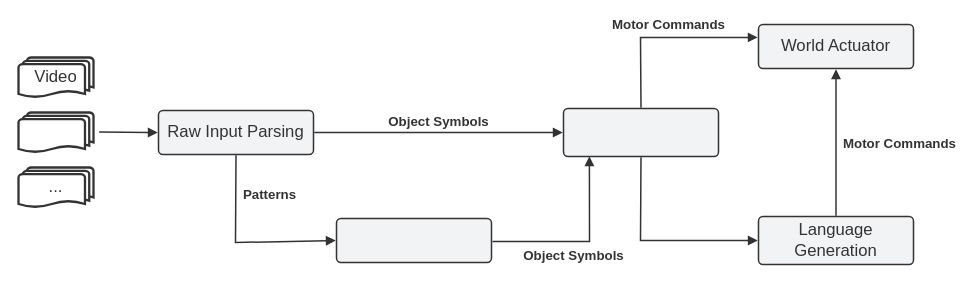
This 973x283 diagram has some shape labels left out. The centre of each missing label's shape, as x and y in pixels:
Object Learning: [413,240]
Sound: [55,132]
World Modeling: [640,132]
